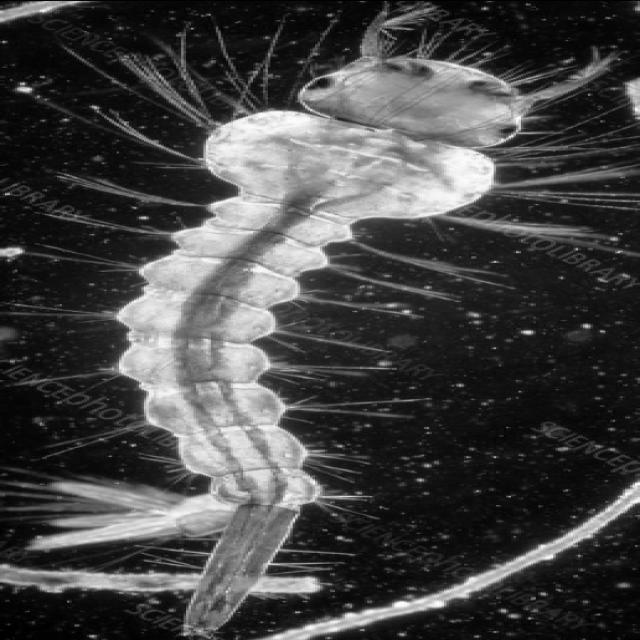larvas: (128, 53, 528, 637)
